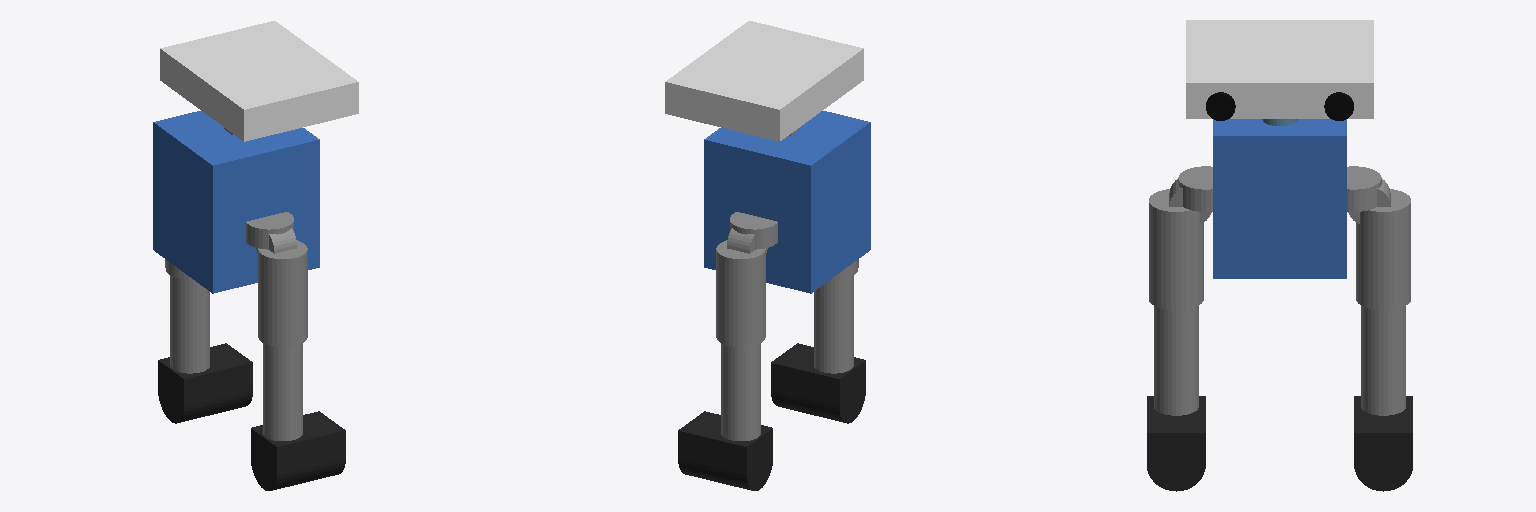
The robot description file, URDF, robot "bsl_droid_simplified_v2":
<?xml version="1.0" ?>
<!-- =================================================================================== -->
<!-- |    This document was autogenerated by xacro from src/biped_description/urdf/bsl_droid_simplified_v2.urdf.xacro | -->
<!-- |    EDITING THIS FILE BY HAND IS NOT RECOMMENDED                                 | -->
<!-- =================================================================================== -->
<robot name="bsl_droid_simplified_v2">
  <!--
    BSL-Droid Simplified V2 - 75% torso width variant

    V1からの変更点:
    - torso_width: 0.18 → 0.135 (75%)
    - hip_offset_y: 0.10 → 0.075 (75%)
    - base_link inertia: iyy 0.05→0.038, izz 0.04→0.029 (幅縮小に伴う慣性更新)

    特徴:
    - 膝が後方に曲がる逆関節構造（鳥型）
    - 片脚5関節 × 2脚（左右対称）
    - 関節構成: 股関節ヨー, 股関節ロール, 股関節ピッチ, 膝ピッチ, 足首ピッチ
    - 胴体側面から脚が生える
    - 足裏は半円状（ロール関節を代替）
    - 胴体前方に首、その上に顔（直方体）
    - 顔に2つの円形の目
    - 全高: 約0.9m
  -->
  <!-- 胴体高さ [m] -->
  <!-- 下腿部長さ [m] -->
  <!-- 足首位置: 足後端から中心寄り [m] -->
  <!-- 目の間隔 [m] -->
  <!-- マテリアル定義 -->
  <material name="torso_color">
    <color rgba="0.3 0.5 0.8 1.0"/>
  </material>
  <material name="leg_color">
    <color rgba="0.6 0.6 0.6 1.0"/>
  </material>
  <material name="foot_color">
    <color rgba="0.2 0.2 0.2 1.0"/>
  </material>
  <material name="neck_color">
    <color rgba="0.4 0.6 0.7 1.0"/>
  </material>
  <material name="head_color">
    <color rgba="0.9 0.9 0.9 1.0"/>
  </material>
  <material name="eye_color">
    <color rgba="0.1 0.1 0.1 1.0"/>
  </material>
  <!-- Base Link (胴体) -->
  <link name="base_link">
    <visual>
      <origin rpy="0 0 0" xyz="0 0 0"/>
      <geometry>
        <box size="0.14 0.135 0.16"/>
      </geometry>
      <material name="torso_color"/>
    </visual>
    <collision>
      <origin rpy="0 0 0" xyz="0 0 0"/>
      <geometry>
        <box size="0.14 0.135 0.16"/>
      </geometry>
    </collision>
    <inertial>
      <mass value="3.2"/>
      <origin rpy="0 0 0" xyz="0 0 0"/>
      <inertia ixx="0.05" ixy="0" ixz="0" iyy="0.038" iyz="0" izz="0.029"/>
    </inertial>
  </link>
  <!-- IMU Link -->
  <link name="imu_link">
    <visual>
      <origin rpy="0 0 0" xyz="0 0 0"/>
      <geometry>
        <box size="0.02 0.02 0.01"/>
      </geometry>
      <material name="leg_color"/>
    </visual>
    <inertial>
      <mass value="0.01"/>
      <origin rpy="0 0 0" xyz="0 0 0"/>
      <inertia ixx="1e-6" ixy="0" ixz="0" iyy="1e-6" iyz="0" izz="1e-6"/>
    </inertial>
  </link>
  <joint name="imu_joint" type="fixed">
    <parent link="base_link"/>
    <child link="imu_link"/>
    <!-- IMUは胴体上面中央に配置 -->
    <origin rpy="0 0 0" xyz="0 0 0.085"/>
  </joint>
  <!-- 首 -->
  <link name="neck_link">
    <visual>
      <origin rpy="0 0 0" xyz="0 0 0.0175"/>
      <geometry>
        <cylinder length="0.035" radius="0.018"/>
      </geometry>
      <material name="neck_color"/>
    </visual>
    <collision>
      <origin rpy="0 0 0" xyz="0 0 0.0175"/>
      <geometry>
        <cylinder length="0.035" radius="0.018"/>
      </geometry>
    </collision>
    <inertial>
      <mass value="0.15"/>
      <origin rpy="0 0 0" xyz="0 0 0.0175"/>
      <inertia ixx="0.0003" ixy="0" ixz="0" iyy="0.0003" iyz="0" izz="0.0001"/>
    </inertial>
  </link>
  <joint name="neck_joint" type="fixed">
    <parent link="base_link"/>
    <child link="neck_link"/>
    <!-- 胴体前方・上面から首が生える（X方向を後ろに調整） -->
    <origin rpy="0 0 0" xyz="0.030000000000000006 0 0.08"/>
  </joint>
  <!-- 顔 -->
  <link name="head_link">
    <visual>
      <origin rpy="0 0 0" xyz="0 0 0"/>
      <geometry>
        <box size="0.15 0.19 0.04"/>
      </geometry>
      <material name="head_color"/>
    </visual>
    <collision>
      <origin rpy="0 0 0" xyz="0 0 0"/>
      <geometry>
        <box size="0.15 0.19 0.04"/>
      </geometry>
    </collision>
    <inertial>
      <mass value="0.35"/>
      <origin rpy="0 0 0" xyz="0 0 0"/>
      <inertia ixx="0.0012" ixy="0" ixz="0" iyy="0.0018" iyz="0" izz="0.0015"/>
    </inertial>
  </link>
  <joint name="head_joint" type="fixed">
    <parent link="neck_link"/>
    <child link="head_link"/>
    <origin rpy="0 0 0" xyz="0 0 0.05500000000000001"/>
  </joint>
  <!-- 左目 -->
  <link name="left_eye_link">
    <visual>
      <origin rpy="0 1.5707963267948966 0" xyz="0 0 0"/>
      <geometry>
        <cylinder length="0.005" radius="0.015"/>
      </geometry>
      <material name="eye_color"/>
    </visual>
    <inertial>
      <mass value="0.001"/>
      <origin rpy="0 0 0" xyz="0 0 0"/>
      <inertia ixx="1e-7" ixy="0" ixz="0" iyy="1e-7" iyz="0" izz="1e-7"/>
    </inertial>
  </link>
  <joint name="left_eye_joint" type="fixed">
    <parent link="head_link"/>
    <child link="left_eye_link"/>
    <origin rpy="0 0 0" xyz="0.078 0.06 -0.005"/>
  </joint>
  <!-- 右目 -->
  <link name="right_eye_link">
    <visual>
      <origin rpy="0 1.5707963267948966 0" xyz="0 0 0"/>
      <geometry>
        <cylinder length="0.005" radius="0.015"/>
      </geometry>
      <material name="eye_color"/>
    </visual>
    <inertial>
      <mass value="0.001"/>
      <origin rpy="0 0 0" xyz="0 0 0"/>
      <inertia ixx="1e-7" ixy="0" ixz="0" iyy="1e-7" iyz="0" izz="1e-7"/>
    </inertial>
  </link>
  <joint name="right_eye_joint" type="fixed">
    <parent link="head_link"/>
    <child link="right_eye_link"/>
    <origin rpy="0 0 0" xyz="0.078 -0.06 -0.005"/>
  </joint>
  <!--
      関節命名規則:
      - 左脚 (side=left, reflect=1):  j11, j12, j13, j14, j15
      - 右脚 (side=right, reflect=-1): j21, j22, j23, j24, j25
    -->
  <!-- j11/j21: Hip Yaw Joint (股関節ヨー) -->
  <joint name="left_hip_yaw_joint" type="revolute">
    <parent link="base_link"/>
    <child link="left_hip_yaw_link"/>
    <!-- 胴体側面の中央部から生える: Y方向にオフセット、Z=0（胴体中央高さ） -->
    <origin rpy="0 0 0" xyz="0 0.075 0"/>
    <axis xyz="0 0 1"/>
    <!-- Z軸回転（ヨー） -->
    <limit effort="50" lower="-0.5235987755982988" upper="0.5235987755982988" velocity="5"/>
    <dynamics damping="0.1" friction="0.1"/>
  </joint>
  <link name="left_hip_yaw_link">
    <visual>
      <origin rpy="0 0 0" xyz="0 0 -0.0125"/>
      <geometry>
        <cylinder length="0.025" radius="0.028"/>
      </geometry>
      <material name="leg_color"/>
    </visual>
    <inertial>
      <mass value="0.25"/>
      <origin rpy="0 0 0" xyz="0 0 -0.0125"/>
      <inertia ixx="0.0008" ixy="0" ixz="0" iyy="0.0008" iyz="0" izz="0.0005"/>
    </inertial>
  </link>
  <!-- j12/j22: Hip Roll Joint (股関節ロール) -->
  <joint name="left_hip_roll_joint" type="revolute">
    <parent link="left_hip_yaw_link"/>
    <child link="left_hip_roll_link"/>
    <origin rpy="0 0 0" xyz="0 0 -0.025"/>
    <axis xyz="1 0 0"/>
    <!-- X軸回転（ロール） - 非対称: 内向き-12°制限, 外向き+25°維持 -->
    <limit effort="50" lower="-0.20943951023931953" upper="0.4363323129985824" velocity="5"/>
    <dynamics damping="0.1" friction="0.1"/>
  </joint>
  <link name="left_hip_roll_link">
    <visual>
      <origin rpy="0 1.5707963267948966 0" xyz="0 0.015 0"/>
      <geometry>
        <cylinder length="0.03" radius="0.022"/>
      </geometry>
      <material name="leg_color"/>
    </visual>
    <inertial>
      <mass value="0.18"/>
      <origin rpy="0 0 0" xyz="0 0.015 0"/>
      <inertia ixx="0.0005" ixy="0" ixz="0" iyy="0.0005" iyz="0" izz="0.0003"/>
    </inertial>
  </link>
  <!-- j13/j23: Hip Pitch Joint (股関節ピッチ) -->
  <joint name="left_hip_pitch_joint" type="revolute">
    <parent link="left_hip_roll_link"/>
    <child link="left_thigh_link"/>
    <origin rpy="0 0 0" xyz="0 0.03 0"/>
    <axis xyz="0 1 0"/>
    <!-- Y軸回転（ピッチ） -->
    <limit effort="100" lower="-2.0943951023931953" upper="1.5707963267948966" velocity="10"/>
    <dynamics damping="0.2" friction="0.15"/>
  </joint>
  <link name="left_thigh_link">
    <visual>
      <origin rpy="0 0 0" xyz="0 0 -0.055"/>
      <geometry>
        <cylinder length="0.11" radius="0.028"/>
      </geometry>
      <material name="leg_color"/>
    </visual>
    <collision>
      <origin rpy="0 0 0" xyz="0 0 -0.055"/>
      <geometry>
        <cylinder length="0.11" radius="0.028"/>
      </geometry>
    </collision>
    <inertial>
      <mass value="0.7"/>
      <origin rpy="0 0 0" xyz="0 0 -0.055"/>
      <inertia ixx="0.005" ixy="0" ixz="0" iyy="0.005" iyz="0" izz="0.0008"/>
    </inertial>
  </link>
  <!-- j14/j24: Knee Pitch Joint (膝ピッチ) - 逆関節：負角度で後方に曲がる -->
  <joint name="left_knee_pitch_joint" type="revolute">
    <parent link="left_thigh_link"/>
    <child link="left_shank_link"/>
    <origin rpy="0 0 0" xyz="0 0 -0.11"/>
    <axis xyz="0 1 0"/>
    <!-- Y軸回転（ピッチ）- 他のピッチ軸と統一 -->
    <!-- 逆関節: 負の角度で後方屈曲（Unitree/ANYmal等と同じ規約） -->
    <limit effort="100" lower="-2.6179938779914944" upper="0.0" velocity="10"/>
    <dynamics damping="0.2" friction="0.15"/>
  </joint>
  <link name="left_shank_link">
    <visual>
      <origin rpy="0 0 0" xyz="0 0 -0.06"/>
      <geometry>
        <cylinder length="0.12" radius="0.023"/>
      </geometry>
      <material name="leg_color"/>
    </visual>
    <collision>
      <origin rpy="0 0 0" xyz="0 0 -0.06"/>
      <geometry>
        <cylinder length="0.12" radius="0.023"/>
      </geometry>
    </collision>
    <inertial>
      <mass value="0.5"/>
      <origin rpy="0 0 0" xyz="0 0 -0.06"/>
      <inertia ixx="0.003" ixy="0" ixz="0" iyy="0.003" iyz="0" izz="0.0005"/>
    </inertial>
  </link>
  <!-- j15/j25: Ankle Pitch Joint (足首ピッチ) -->
  <joint name="left_ankle_pitch_joint" type="revolute">
    <parent link="left_shank_link"/>
    <child link="left_foot_link"/>
    <!-- 足首は足の後端から少し中心寄り -->
    <origin rpy="0 0 0" xyz="0 0 -0.12"/>
    <axis xyz="0 1 0"/>
    <!-- Y軸回転（ピッチ） -->
    <limit effort="50" lower="-1.5707963267948966" upper="1.5707963267948966" velocity="10"/>
    <dynamics damping="0.1" friction="0.1"/>
  </joint>
  <link name="left_foot_link">
    <!-- 足裏は半円状（かまぼこ型） - ロール関節を代替 -->
    <!-- 足首関節位置から後方へ少しオフセット、前方へ伸びる形状 -->
    <visual>
      <!-- メインの足部本体（直方体） -->
      <origin rpy="0 0 0" xyz="0.02 0 -0.0175"/>
      <geometry>
        <box size="0.09 0.06 0.035"/>
      </geometry>
      <material name="foot_color"/>
    </visual>
    <visual>
      <!-- 足裏の半円形状（Y軸方向に円筒を配置） -->
      <origin rpy="0 1.5707963267948966 0" xyz="0.02 0 -0.035"/>
      <geometry>
        <cylinder length="0.09" radius="0.03"/>
      </geometry>
      <material name="foot_color"/>
    </visual>
    <collision>
      <!-- 接地用の半円形状 -->
      <origin rpy="0 1.5707963267948966 0" xyz="0.02 0 -0.035"/>
      <geometry>
        <cylinder length="0.09" radius="0.03"/>
      </geometry>
    </collision>
    <inertial>
      <mass value="0.25"/>
      <origin rpy="0 0 0" xyz="0.02 0 -0.0175"/>
      <inertia ixx="0.0008" ixy="0" ixz="0" iyy="0.0008" iyz="0" izz="0.0006"/>
    </inertial>
  </link>
  <!--
      関節命名規則:
      - 左脚 (side=left, reflect=1):  j11, j12, j13, j14, j15
      - 右脚 (side=right, reflect=-1): j21, j22, j23, j24, j25
    -->
  <!-- j11/j21: Hip Yaw Joint (股関節ヨー) -->
  <joint name="right_hip_yaw_joint" type="revolute">
    <parent link="base_link"/>
    <child link="right_hip_yaw_link"/>
    <!-- 胴体側面の中央部から生える: Y方向にオフセット、Z=0（胴体中央高さ） -->
    <origin rpy="0 0 0" xyz="0 -0.075 0"/>
    <axis xyz="0 0 1"/>
    <!-- Z軸回転（ヨー） -->
    <limit effort="50" lower="-0.5235987755982988" upper="0.5235987755982988" velocity="5"/>
    <dynamics damping="0.1" friction="0.1"/>
  </joint>
  <link name="right_hip_yaw_link">
    <visual>
      <origin rpy="0 0 0" xyz="0 0 -0.0125"/>
      <geometry>
        <cylinder length="0.025" radius="0.028"/>
      </geometry>
      <material name="leg_color"/>
    </visual>
    <inertial>
      <mass value="0.25"/>
      <origin rpy="0 0 0" xyz="0 0 -0.0125"/>
      <inertia ixx="0.0008" ixy="0" ixz="0" iyy="0.0008" iyz="0" izz="0.0005"/>
    </inertial>
  </link>
  <!-- j12/j22: Hip Roll Joint (股関節ロール) -->
  <joint name="right_hip_roll_joint" type="revolute">
    <parent link="right_hip_yaw_link"/>
    <child link="right_hip_roll_link"/>
    <origin rpy="0 0 0" xyz="0 0 -0.025"/>
    <axis xyz="1 0 0"/>
    <!-- X軸回転（ロール） - 非対称: 外向き-25°維持, 内向き+12°制限 -->
    <limit effort="50" lower="-0.4363323129985824" upper="0.20943951023931953" velocity="5"/>
    <dynamics damping="0.1" friction="0.1"/>
  </joint>
  <link name="right_hip_roll_link">
    <visual>
      <origin rpy="0 1.5707963267948966 0" xyz="0 -0.015 0"/>
      <geometry>
        <cylinder length="0.03" radius="0.022"/>
      </geometry>
      <material name="leg_color"/>
    </visual>
    <inertial>
      <mass value="0.18"/>
      <origin rpy="0 0 0" xyz="0 -0.015 0"/>
      <inertia ixx="0.0005" ixy="0" ixz="0" iyy="0.0005" iyz="0" izz="0.0003"/>
    </inertial>
  </link>
  <!-- j13/j23: Hip Pitch Joint (股関節ピッチ) -->
  <joint name="right_hip_pitch_joint" type="revolute">
    <parent link="right_hip_roll_link"/>
    <child link="right_thigh_link"/>
    <origin rpy="0 0 0" xyz="0 -0.03 0"/>
    <axis xyz="0 1 0"/>
    <!-- Y軸回転（ピッチ） -->
    <limit effort="100" lower="-2.0943951023931953" upper="1.5707963267948966" velocity="10"/>
    <dynamics damping="0.2" friction="0.15"/>
  </joint>
  <link name="right_thigh_link">
    <visual>
      <origin rpy="0 0 0" xyz="0 0 -0.055"/>
      <geometry>
        <cylinder length="0.11" radius="0.028"/>
      </geometry>
      <material name="leg_color"/>
    </visual>
    <collision>
      <origin rpy="0 0 0" xyz="0 0 -0.055"/>
      <geometry>
        <cylinder length="0.11" radius="0.028"/>
      </geometry>
    </collision>
    <inertial>
      <mass value="0.7"/>
      <origin rpy="0 0 0" xyz="0 0 -0.055"/>
      <inertia ixx="0.005" ixy="0" ixz="0" iyy="0.005" iyz="0" izz="0.0008"/>
    </inertial>
  </link>
  <!-- j14/j24: Knee Pitch Joint (膝ピッチ) - 逆関節：負角度で後方に曲がる -->
  <joint name="right_knee_pitch_joint" type="revolute">
    <parent link="right_thigh_link"/>
    <child link="right_shank_link"/>
    <origin rpy="0 0 0" xyz="0 0 -0.11"/>
    <axis xyz="0 1 0"/>
    <!-- Y軸回転（ピッチ）- 他のピッチ軸と統一 -->
    <!-- 逆関節: 負の角度で後方屈曲（Unitree/ANYmal等と同じ規約） -->
    <limit effort="100" lower="-2.6179938779914944" upper="0.0" velocity="10"/>
    <dynamics damping="0.2" friction="0.15"/>
  </joint>
  <link name="right_shank_link">
    <visual>
      <origin rpy="0 0 0" xyz="0 0 -0.06"/>
      <geometry>
        <cylinder length="0.12" radius="0.023"/>
      </geometry>
      <material name="leg_color"/>
    </visual>
    <collision>
      <origin rpy="0 0 0" xyz="0 0 -0.06"/>
      <geometry>
        <cylinder length="0.12" radius="0.023"/>
      </geometry>
    </collision>
    <inertial>
      <mass value="0.5"/>
      <origin rpy="0 0 0" xyz="0 0 -0.06"/>
      <inertia ixx="0.003" ixy="0" ixz="0" iyy="0.003" iyz="0" izz="0.0005"/>
    </inertial>
  </link>
  <!-- j15/j25: Ankle Pitch Joint (足首ピッチ) -->
  <joint name="right_ankle_pitch_joint" type="revolute">
    <parent link="right_shank_link"/>
    <child link="right_foot_link"/>
    <!-- 足首は足の後端から少し中心寄り -->
    <origin rpy="0 0 0" xyz="0 0 -0.12"/>
    <axis xyz="0 1 0"/>
    <!-- Y軸回転（ピッチ） -->
    <limit effort="50" lower="-1.5707963267948966" upper="1.5707963267948966" velocity="10"/>
    <dynamics damping="0.1" friction="0.1"/>
  </joint>
  <link name="right_foot_link">
    <!-- 足裏は半円状（かまぼこ型） - ロール関節を代替 -->
    <!-- 足首関節位置から後方へ少しオフセット、前方へ伸びる形状 -->
    <visual>
      <!-- メインの足部本体（直方体） -->
      <origin rpy="0 0 0" xyz="0.02 0 -0.0175"/>
      <geometry>
        <box size="0.09 0.06 0.035"/>
      </geometry>
      <material name="foot_color"/>
    </visual>
    <visual>
      <!-- 足裏の半円形状（Y軸方向に円筒を配置） -->
      <origin rpy="0 1.5707963267948966 0" xyz="0.02 0 -0.035"/>
      <geometry>
        <cylinder length="0.09" radius="0.03"/>
      </geometry>
      <material name="foot_color"/>
    </visual>
    <collision>
      <!-- 接地用の半円形状 -->
      <origin rpy="0 1.5707963267948966 0" xyz="0.02 0 -0.035"/>
      <geometry>
        <cylinder length="0.09" radius="0.03"/>
      </geometry>
    </collision>
    <inertial>
      <mass value="0.25"/>
      <origin rpy="0 0 0" xyz="0.02 0 -0.0175"/>
      <inertia ixx="0.0008" ixy="0" ixz="0" iyy="0.0008" iyz="0" izz="0.0006"/>
    </inertial>
  </link>
</robot>

--- What the picture shows (computed from the rendered views, not written in the file) ---
Views: 3 orthographic renders of the robot side by side, from view 1: azimuth 30°, elevation 25°; view 2: azimuth 150°, elevation 25°; view 3: azimuth 270°, elevation 25°.
Robot: bsl_droid_simplified_v2 — 16 links, 15 joints (10 revolute, 5 fixed); root link base_link; default pose: all joints at 0.
Links seen in each view (by area): view 1: base_link, head_link, right_foot_link, left_foot_link, right_thigh_link, right_shank_link, left_shank_link, right_hip_yaw_link; view 2: base_link, head_link, left_foot_link, right_foot_link, left_thigh_link, left_shank_link, right_shank_link, left_hip_yaw_link; view 3: base_link, head_link, left_thigh_link, right_thigh_link, left_shank_link, right_shank_link, left_foot_link, right_foot_link, left_hip_yaw_link, right_hip_yaw_link, left_eye_link, right_eye_link.
Link boxes in pixels (<box>): base_link: <box>153,111,319,293</box>; head_link: <box>160,21,358,141</box>; right_foot_link: <box>251,411,345,490</box>; left_foot_link: <box>158,343,252,423</box>; right_thigh_link: <box>258,240,307,346</box>; right_shank_link: <box>263,343,302,440</box>; left_shank_link: <box>170,275,209,373</box>; right_hip_yaw_link: <box>246,212,293,249</box>; base_link: <box>704,111,870,293</box>; head_link: <box>665,21,863,141</box>; left_foot_link: <box>678,411,772,490</box>; right_foot_link: <box>771,343,865,423</box>; left_thigh_link: <box>716,240,765,346</box>; left_shank_link: <box>721,343,760,440</box>; right_shank_link: <box>814,275,853,373</box>; left_hip_yaw_link: <box>730,212,777,249</box>; base_link: <box>1213,119,1346,278</box>; head_link: <box>1186,20,1373,118</box>; left_thigh_link: <box>1356,189,1410,309</box>; right_thigh_link: <box>1149,189,1203,309</box>; left_shank_link: <box>1361,306,1405,415</box>; right_shank_link: <box>1154,306,1198,415</box>; left_foot_link: <box>1354,396,1412,491</box>; right_foot_link: <box>1147,396,1205,491</box>; left_hip_yaw_link: <box>1347,166,1381,211</box>; right_hip_yaw_link: <box>1178,166,1212,211</box>; left_eye_link: <box>1324,92,1353,120</box>; right_eye_link: <box>1206,92,1235,120</box>.
Bounding box of the posed robot: 0.1805 × 0.27 × 0.475 m (x, y, z).
Geometry: primitives only (box / cylinder / sphere), no mesh files.
